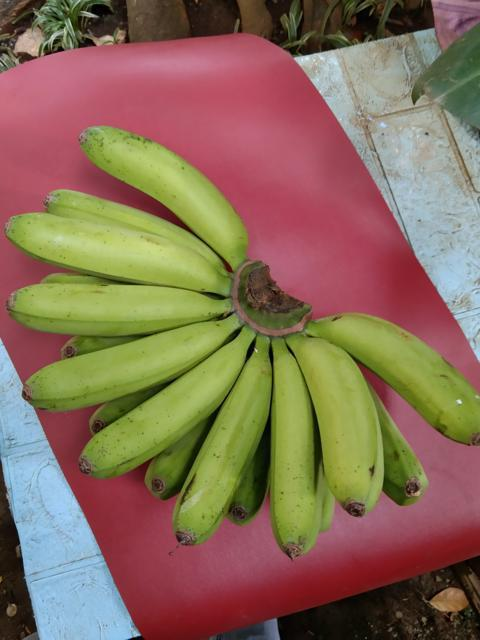freshunripe: (74, 117, 249, 261), (79, 335, 247, 474), (18, 314, 232, 408), (5, 203, 233, 288), (290, 332, 390, 518), (3, 256, 223, 335), (256, 344, 325, 562)
